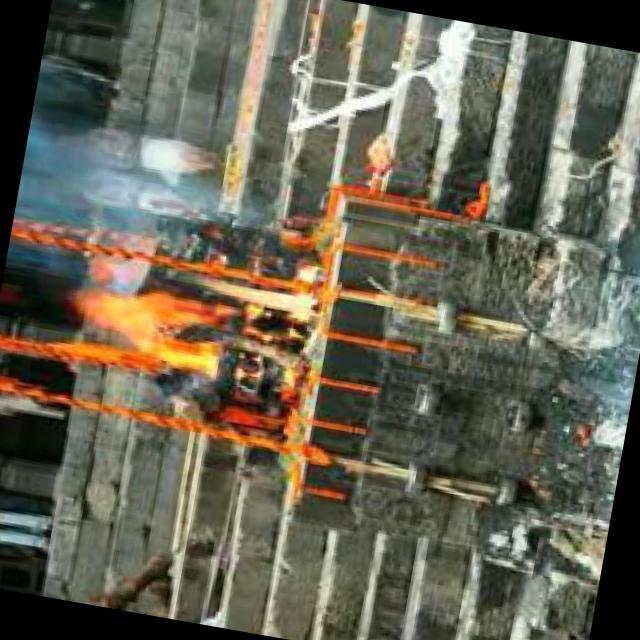Fire: (55, 246, 323, 393)
